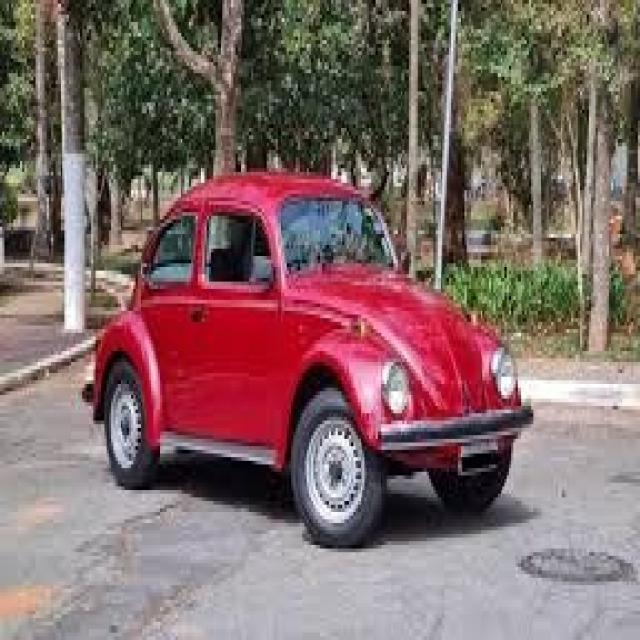cars: (99, 170, 532, 536)
